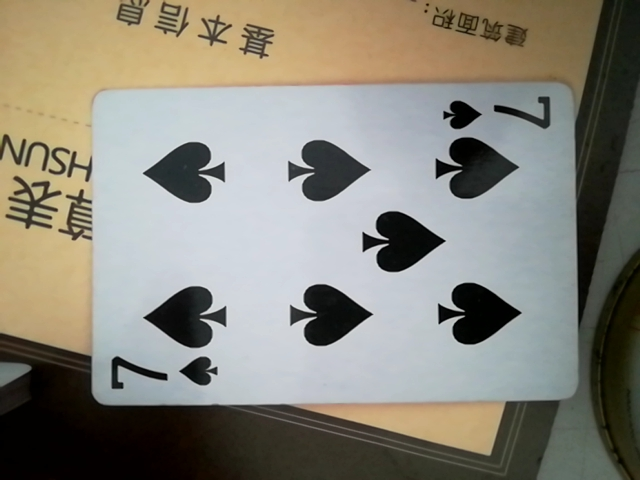ht 7: (75, 83, 587, 412)
